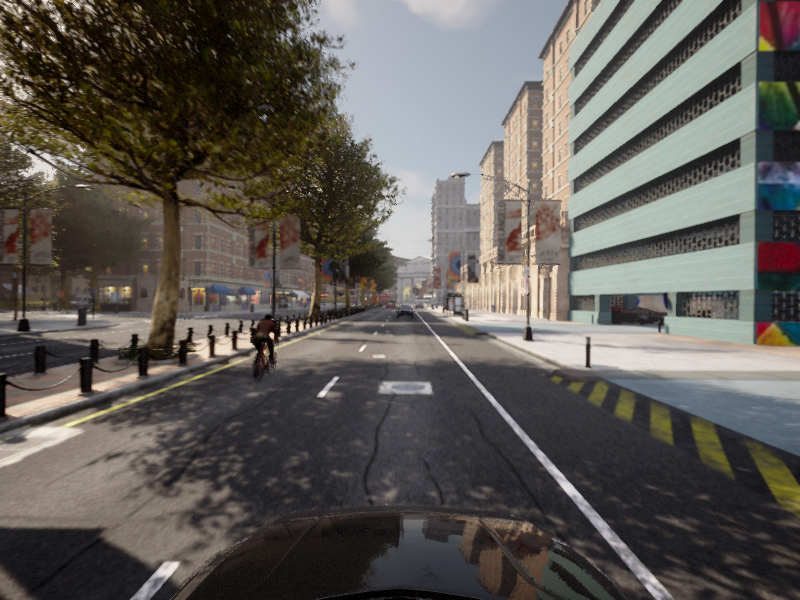vehicle: (240, 313, 287, 385), (396, 305, 414, 318)
